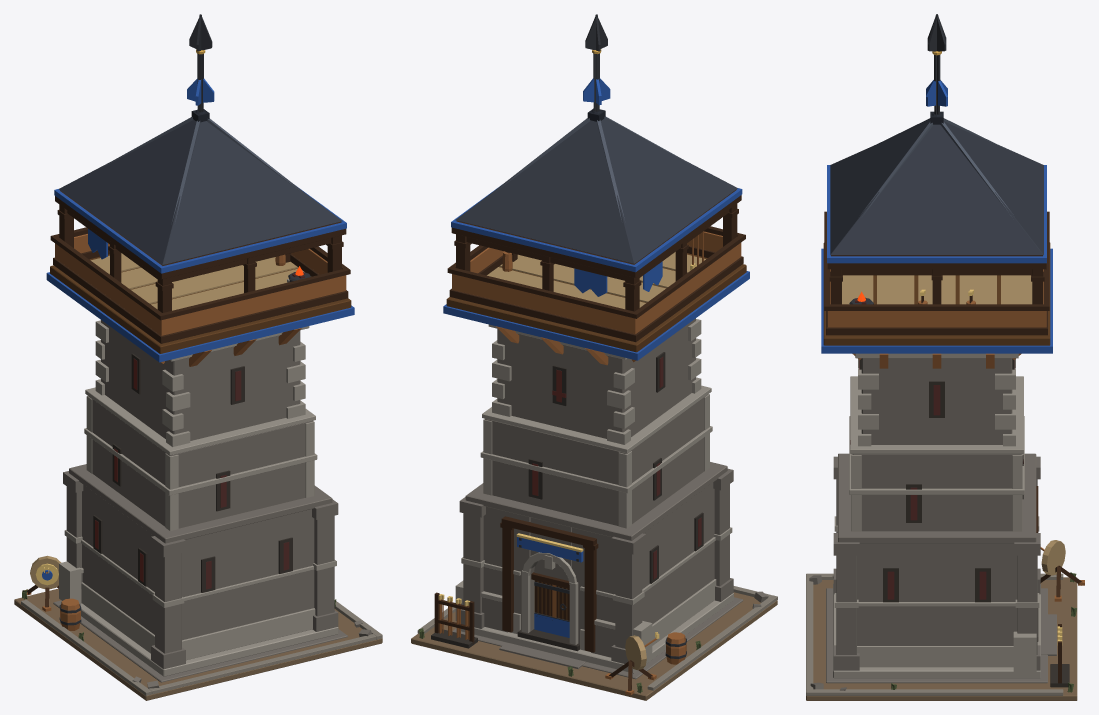
3 renders of one model, left to right at view 1: azimuth 30°, elevation 25°; view 2: azimuth 150°, elevation 25°; view 3: azimuth 270°, elevation 25°, orthographic. The views are drawn at different scales.
Visible parts, largest first — view 1: AT-stone_mid, AT-roof, AT-stone_light, AT-wood_dark, AT-wood_warm, AT-team, AT-earth, AT-sand, AT-wood_mid, AT-paving, AT-stone_dark, AT-coal (+2 smaller); view 2: AT-stone_mid, AT-roof, AT-stone_light, AT-wood_dark, AT-team, AT-wood_warm, AT-earth, AT-sand, AT-wood_mid, AT-stone_dark, AT-paving, AT-iron (+2 smaller); view 3: AT-stone_mid, AT-roof, AT-stone_light, AT-wood_dark, AT-earth, AT-team, AT-sand, AT-wood_warm, AT-wood_mid, AT-paving, AT-stone_dark, AT-roof_pale (+2 smaller).
Part boxes in pixels (bbox=[...]): AT-stone_mid: bbox=[53, 320, 371, 688]; AT-roof: bbox=[59, 120, 342, 265]; AT-stone_light: bbox=[59, 279, 338, 676]; AT-wood_dark: bbox=[27, 190, 350, 607]; AT-wood_warm: bbox=[22, 234, 346, 630]; AT-team: bbox=[42, 78, 354, 580]; AT-earth: bbox=[14, 588, 382, 700]; AT-sand: bbox=[30, 253, 304, 589]; AT-wood_mid: bbox=[50, 254, 351, 353]; AT-paving: bbox=[21, 599, 382, 695]; AT-stone_dark: bbox=[93, 353, 292, 592]; AT-coal: bbox=[95, 272, 304, 589]; AT-stone_mid: bbox=[452, 318, 768, 679]; AT-roof: bbox=[455, 119, 737, 263]; AT-stone_light: bbox=[455, 319, 733, 673]; AT-wood_dark: bbox=[434, 189, 745, 690]; AT-team: bbox=[443, 78, 749, 637]; AT-wood_warm: bbox=[439, 231, 741, 695]; AT-earth: bbox=[411, 592, 777, 700]; AT-sand: bbox=[487, 252, 705, 669]; AT-wood_mid: bbox=[446, 253, 746, 620]; AT-stone_dark: bbox=[431, 352, 703, 651]; AT-paving: bbox=[417, 586, 777, 690]; AT-iron: bbox=[519, 14, 686, 658]; AT-stone_mid: bbox=[809, 358, 1056, 690]; AT-roof: bbox=[830, 121, 1043, 255]; AT-stone_light: bbox=[833, 353, 1040, 678]; AT-wood_dark: bbox=[824, 211, 1082, 683]; AT-earth: bbox=[806, 577, 1077, 700]; AT-team: bbox=[821, 80, 1052, 353]; AT-sand: bbox=[842, 275, 1065, 575]; AT-wood_warm: bbox=[827, 269, 1084, 601]; AT-wood_mid: bbox=[823, 242, 1050, 345]; AT-paving: bbox=[806, 573, 1063, 695]; AT-stone_dark: bbox=[860, 359, 1069, 687]; AT-roof_pale: bbox=[860, 118, 1013, 216].
Size of the model in its own units: 7.08 by 17.46 by 7.03.
